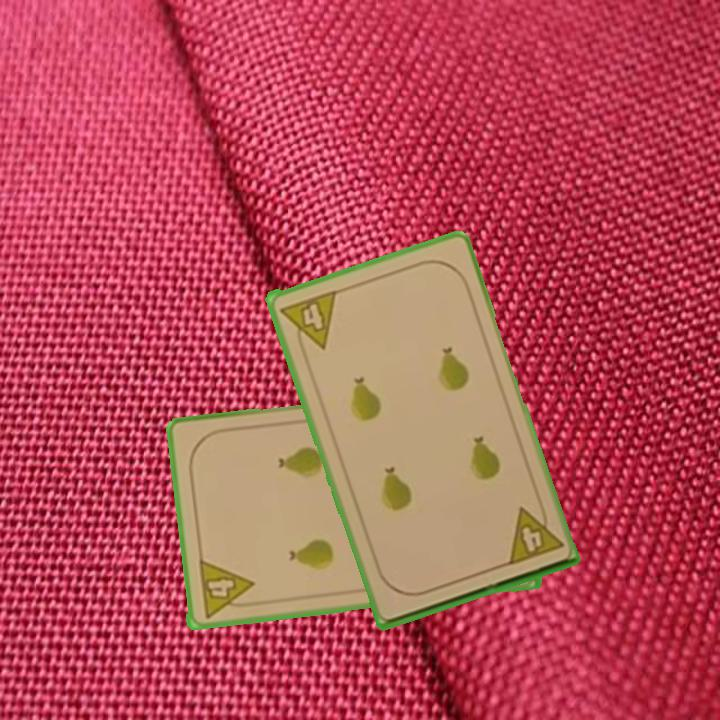4p: (277, 286, 340, 357), (503, 498, 566, 569), (194, 555, 257, 621)
